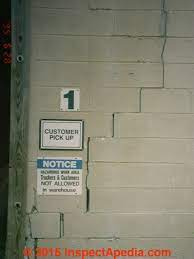stairstep_crack: (84, 0, 166, 212)
